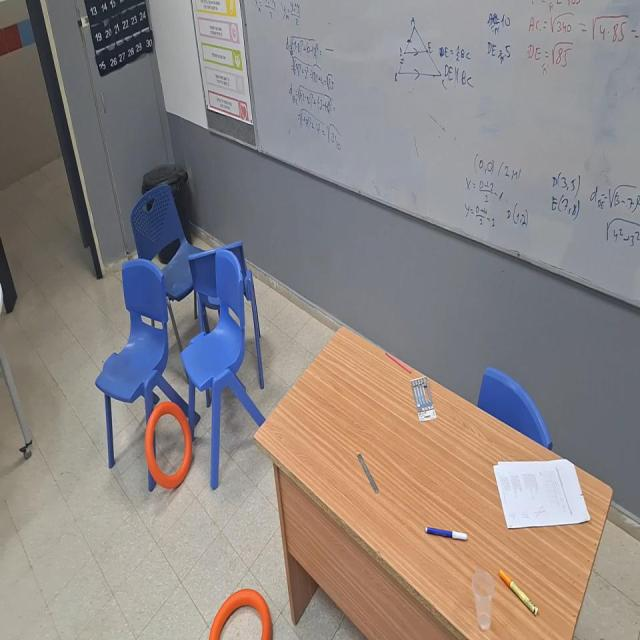note: (144, 401, 193, 490), (208, 588, 272, 640)
